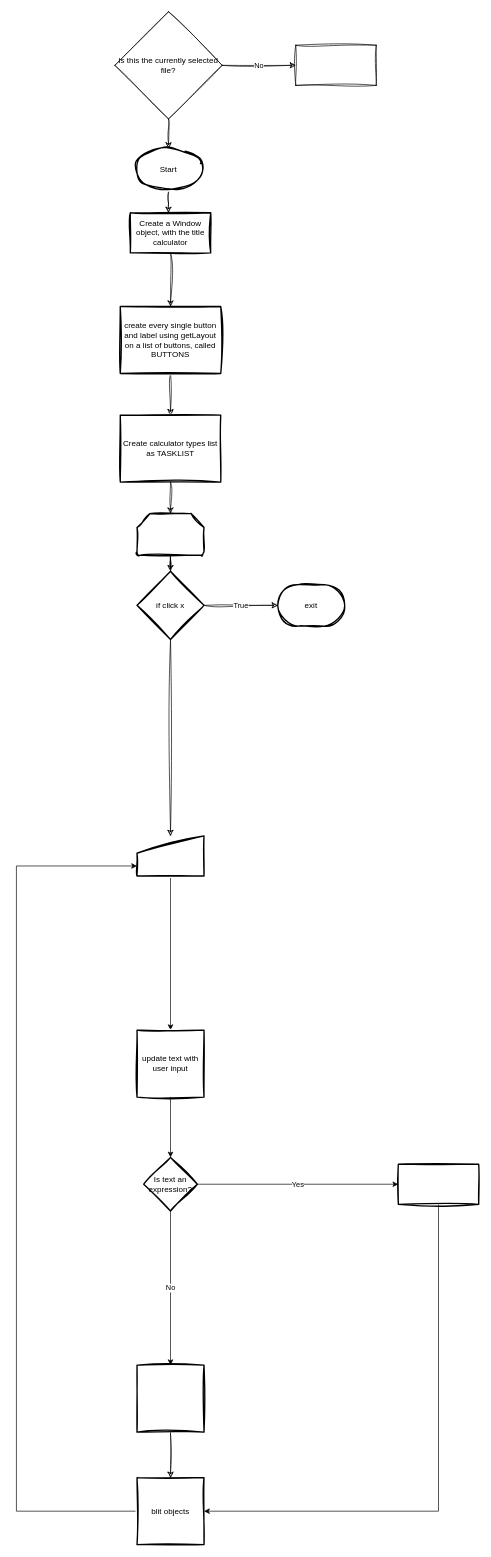
Image size: 491x1557. Some labels were removed from this diagram. Each missing label, with the centre of its shape:
"get user input (clicks) & (text)" belongs at pixel 170 855.
"Open graphing window and display expression" belongs at pixel 438 1184.
"Pass" belongs at pixel 335 65.
"update answer text with the answer to the equation" belongs at pixel 170 1398.
"while True" belongs at pixel 170 534.
